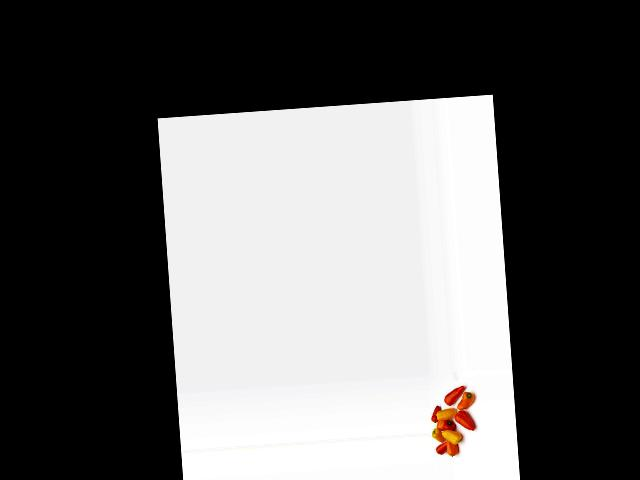bell_pepper: (429, 403, 440, 423)
